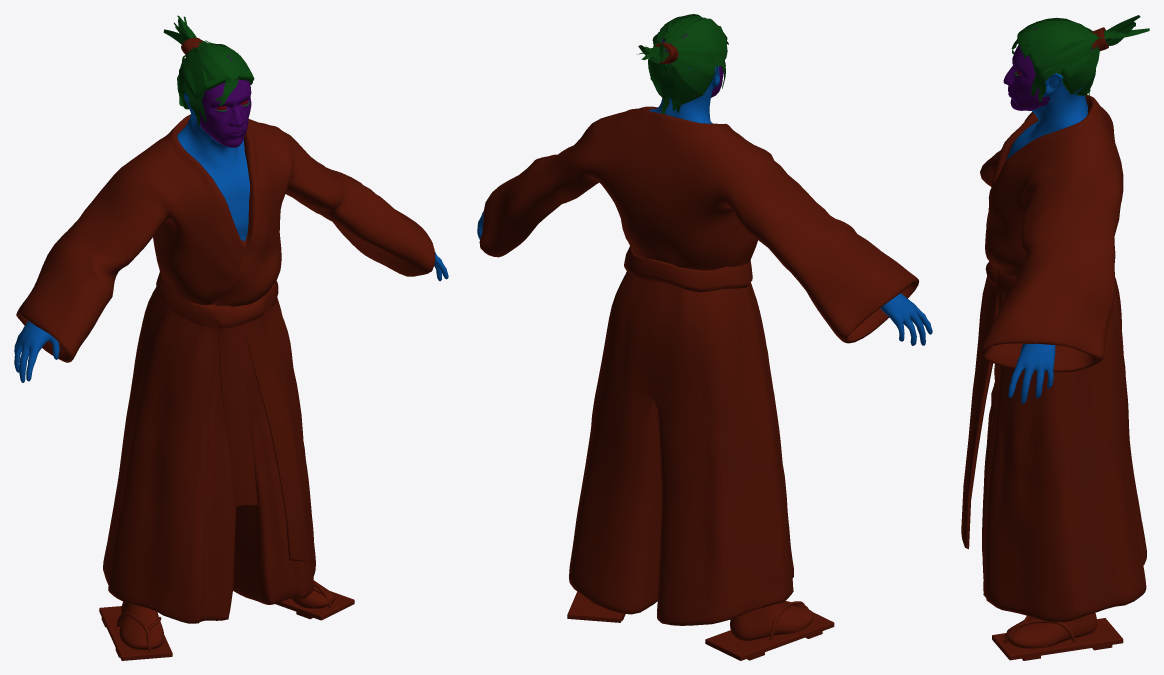
The picture shows the model from 3 angles, left to right: view 1: azimuth 30°, elevation 25°; view 2: azimuth 150°, elevation 25°; view 3: azimuth 270°, elevation 25°; orthographic projection. The views are drawn at different scales.
Visible parts, largest first — view 1: _clothes_LOW, _belt_LOW, _body_LOW (×3), _hair_LOW, _shoes_LOW; view 2: _clothes_LOW, _hair_LOW, _body_LOW (×2), _shoes_LOW, _belt_LOW; view 3: _clothes_LOW, _body_LOW (×3), _hair_LOW, _belt_LOW, _shoes_LOW.
Part boxes in pixels (x1,y1,x2,y2): _clothes_LOW: (16,114,435,623); _belt_LOW: (156,272,306,562); _body_LOW (×3): (14,53,448,649); _hair_LOW: (163,15,254,126); _shoes_LOW: (99,581,354,660); _clothes_LOW: (479,106,919,625); _hair_LOW: (637,14,728,114); _body_LOW (×2): (477,63,932,640); _shoes_LOW: (567,591,834,660); _belt_LOW: (624,246,752,292); _clothes_LOW: (980,94,1146,622); _body_LOW (×3): (1003,28,1097,648); _hair_LOW: (1011,15,1149,101); _belt_LOW: (961,261,1017,549); _shoes_LOW: (992,616,1123,660).
Size of the model in its own units: 1.53 by 2 by 0.5806.
